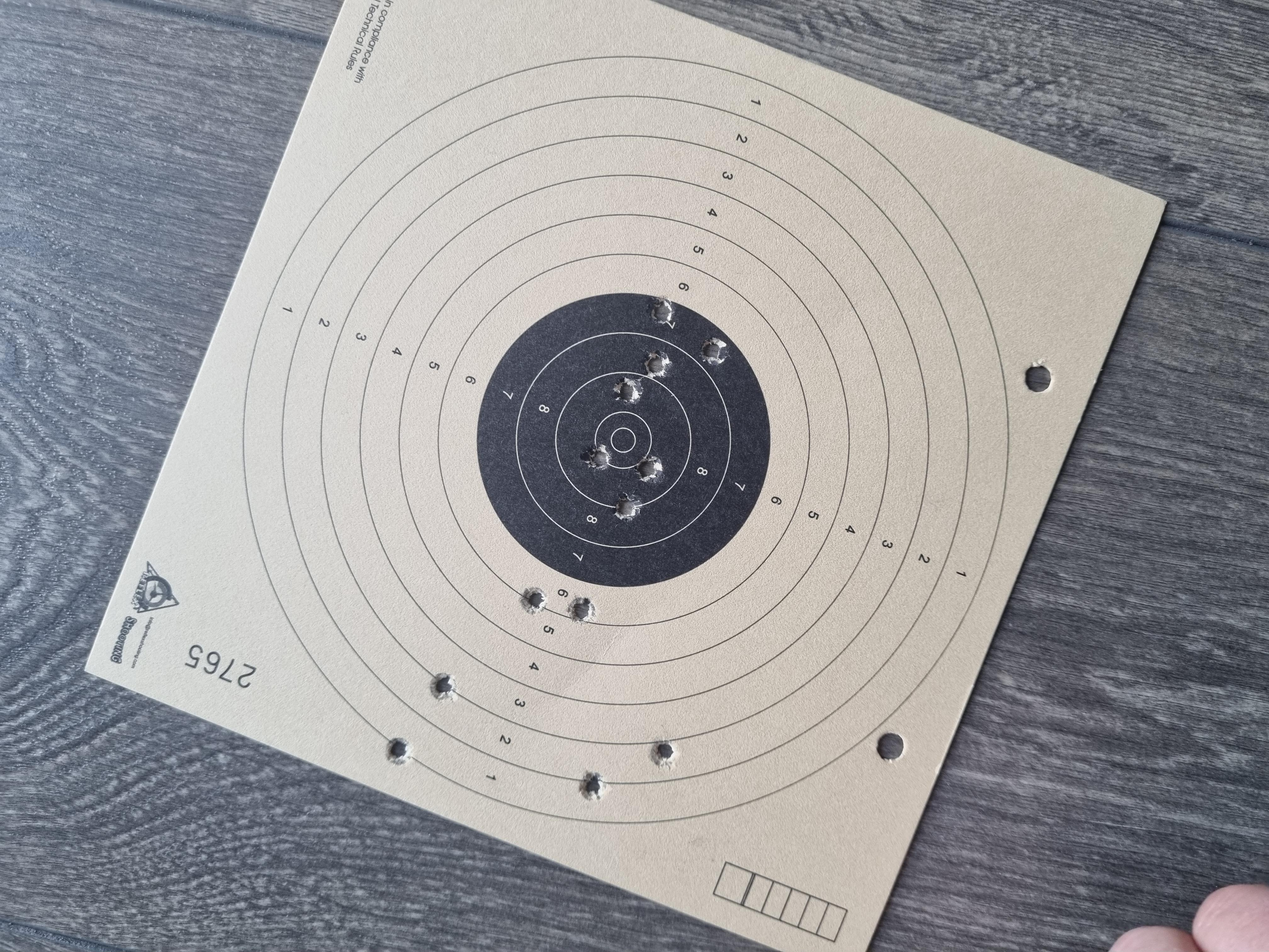hole: (729, 460, 766, 482), (435, 425, 472, 447), (574, 461, 611, 482), (782, 525, 819, 546), (450, 390, 487, 411), (764, 483, 802, 503), (200, 434, 240, 453), (335, 322, 372, 342), (641, 436, 676, 457), (248, 289, 286, 308), (246, 488, 283, 507), (629, 477, 660, 497), (837, 488, 870, 504)
